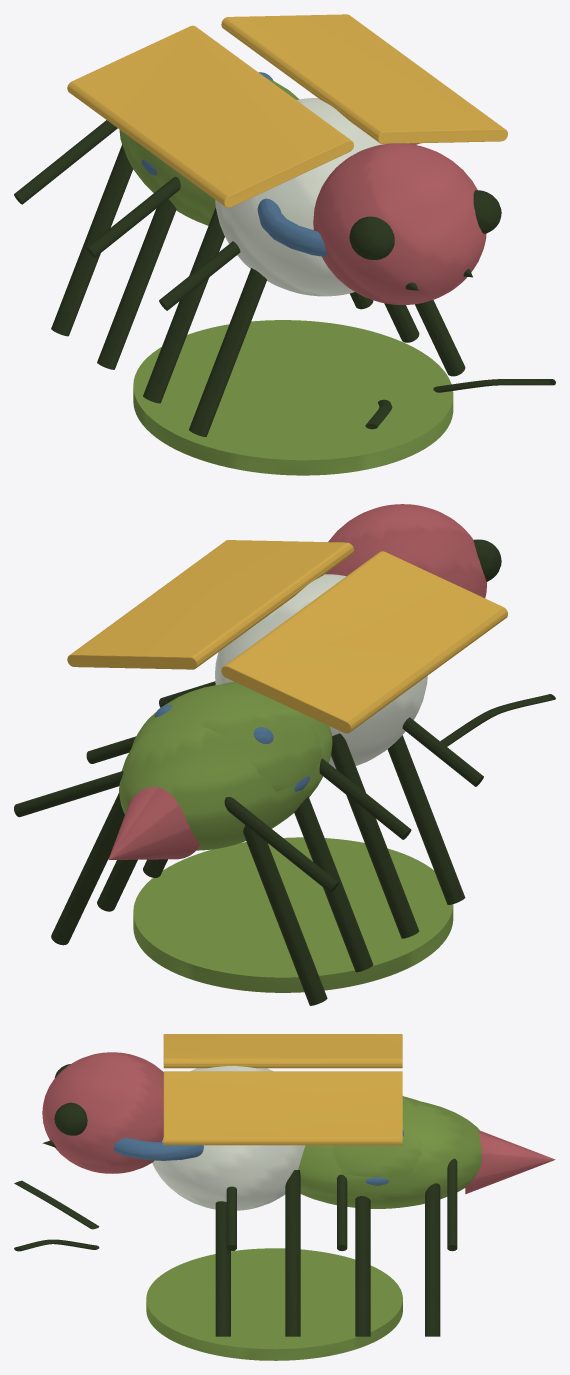
Rendered from 0009_昆虫图鉴_蚂蚁.glb.
3 renders of one model, top to bottom at view 1: azimuth 30°, elevation 25°; view 2: azimuth 150°, elevation 25°; view 3: azimuth 270°, elevation 25°, orthographic. The views are drawn at different scales.
Visible parts, largest first — view 1: card_0009; view 2: card_0009; view 3: card_0009.
Boxes of the visible parts, <box> form: card_0009: <box>14,14,555,475</box>; card_0009: <box>14,504,555,1005</box>; card_0009: <box>14,1034,555,1360</box>.
Bounding box in the file's own units: 1.02 × 1 × 1.95.
